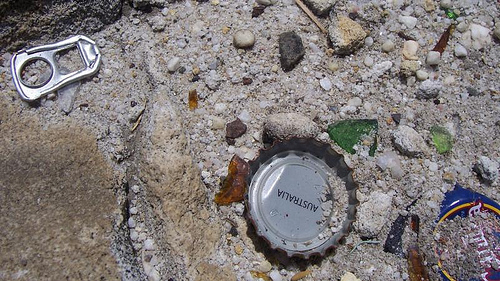litter: (245, 133, 360, 259), (385, 182, 500, 272), (8, 33, 101, 100)
